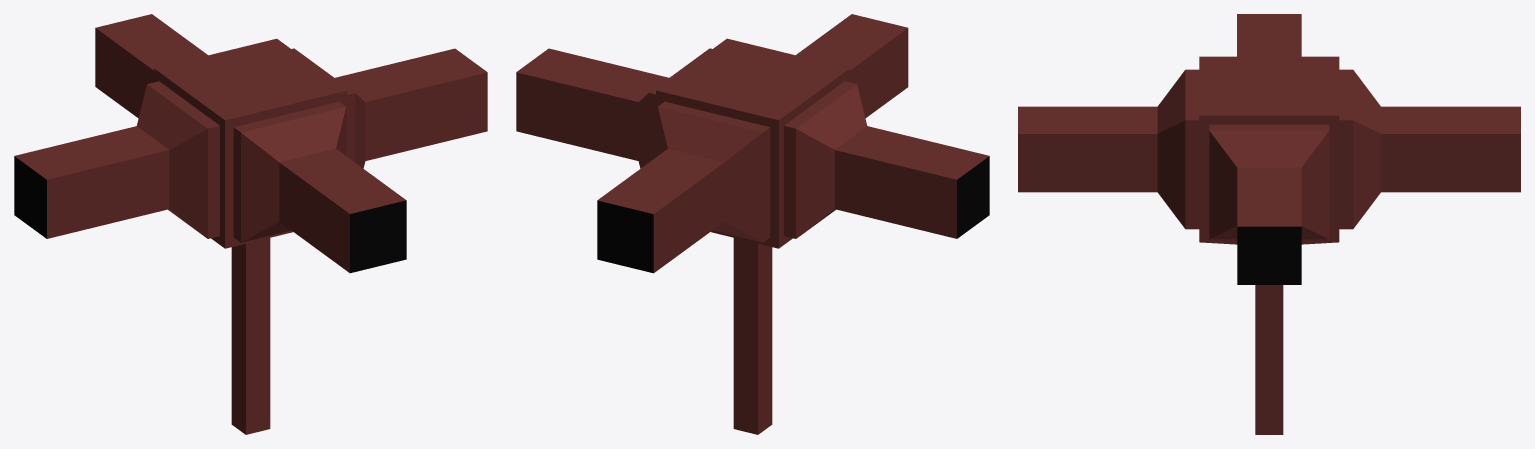
Rendered from multiShotTower.glb.
The picture shows the model from 3 angles, left to right: view 1: azimuth 30°, elevation 25°; view 2: azimuth 150°, elevation 25°; view 3: azimuth 270°, elevation 25°; orthographic projection.
Visible parts, largest first — view 1: multishot; view 2: multishot; view 3: multishot.
Part boxes in pixels (x1=…): multishot: x1=14, y1=14, x2=487, y2=434; multishot: x1=516, y1=14, x2=989, y2=434; multishot: x1=1018, y1=14, x2=1520, y2=434.
Size of the model in its own units: 36.1 by 27.18 by 36.11.
